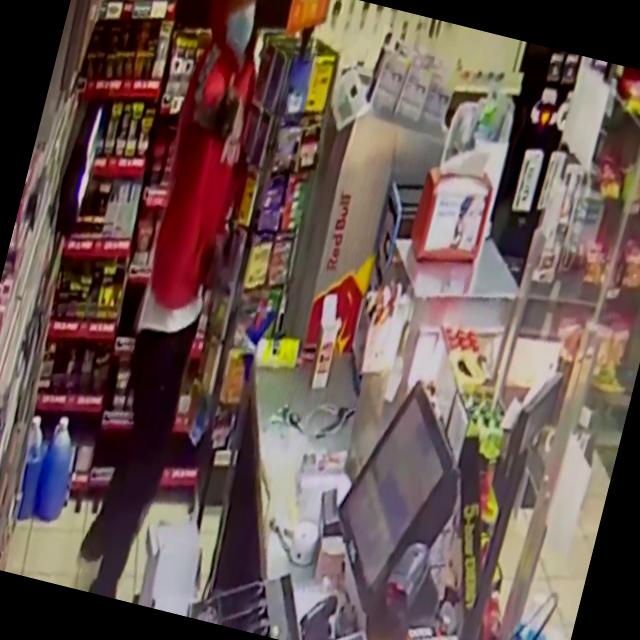handgun: (192, 79, 268, 179)
